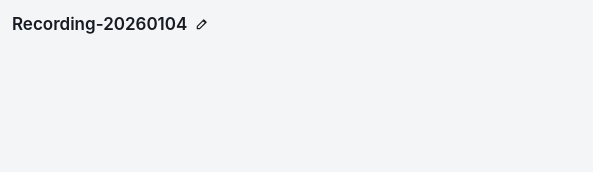
Test case: RunTitle › saves the name typed after the pencil, leaves it on Escape, and saves the folder's name as empty
This screenshot has width=593, height=172.
Click the button named "rename" at (202, 24), box [191, 13, 213, 35]
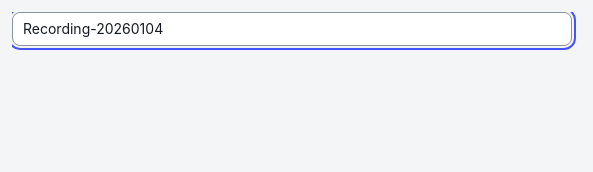
Type "Gateway launch plan" into the field named "name shown" at (292, 29), box [12, 12, 572, 46]
Then press Enter
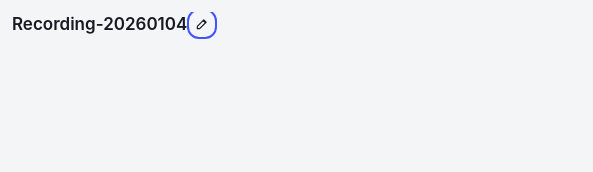
Click the button named "rename" at (202, 24), box [191, 13, 213, 35]
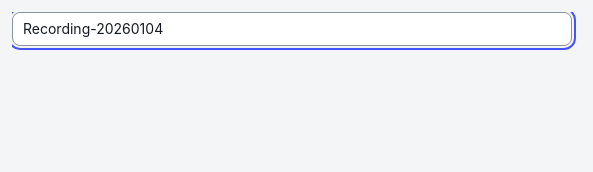
Type " more" into the field named "name shown" at (292, 29), box [12, 12, 572, 46]
Then press Escape
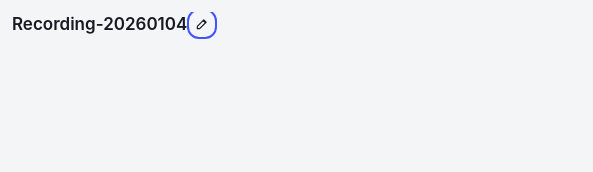
Expected: the heading reads "Recording-20260104", [12, 14, 187, 34]
